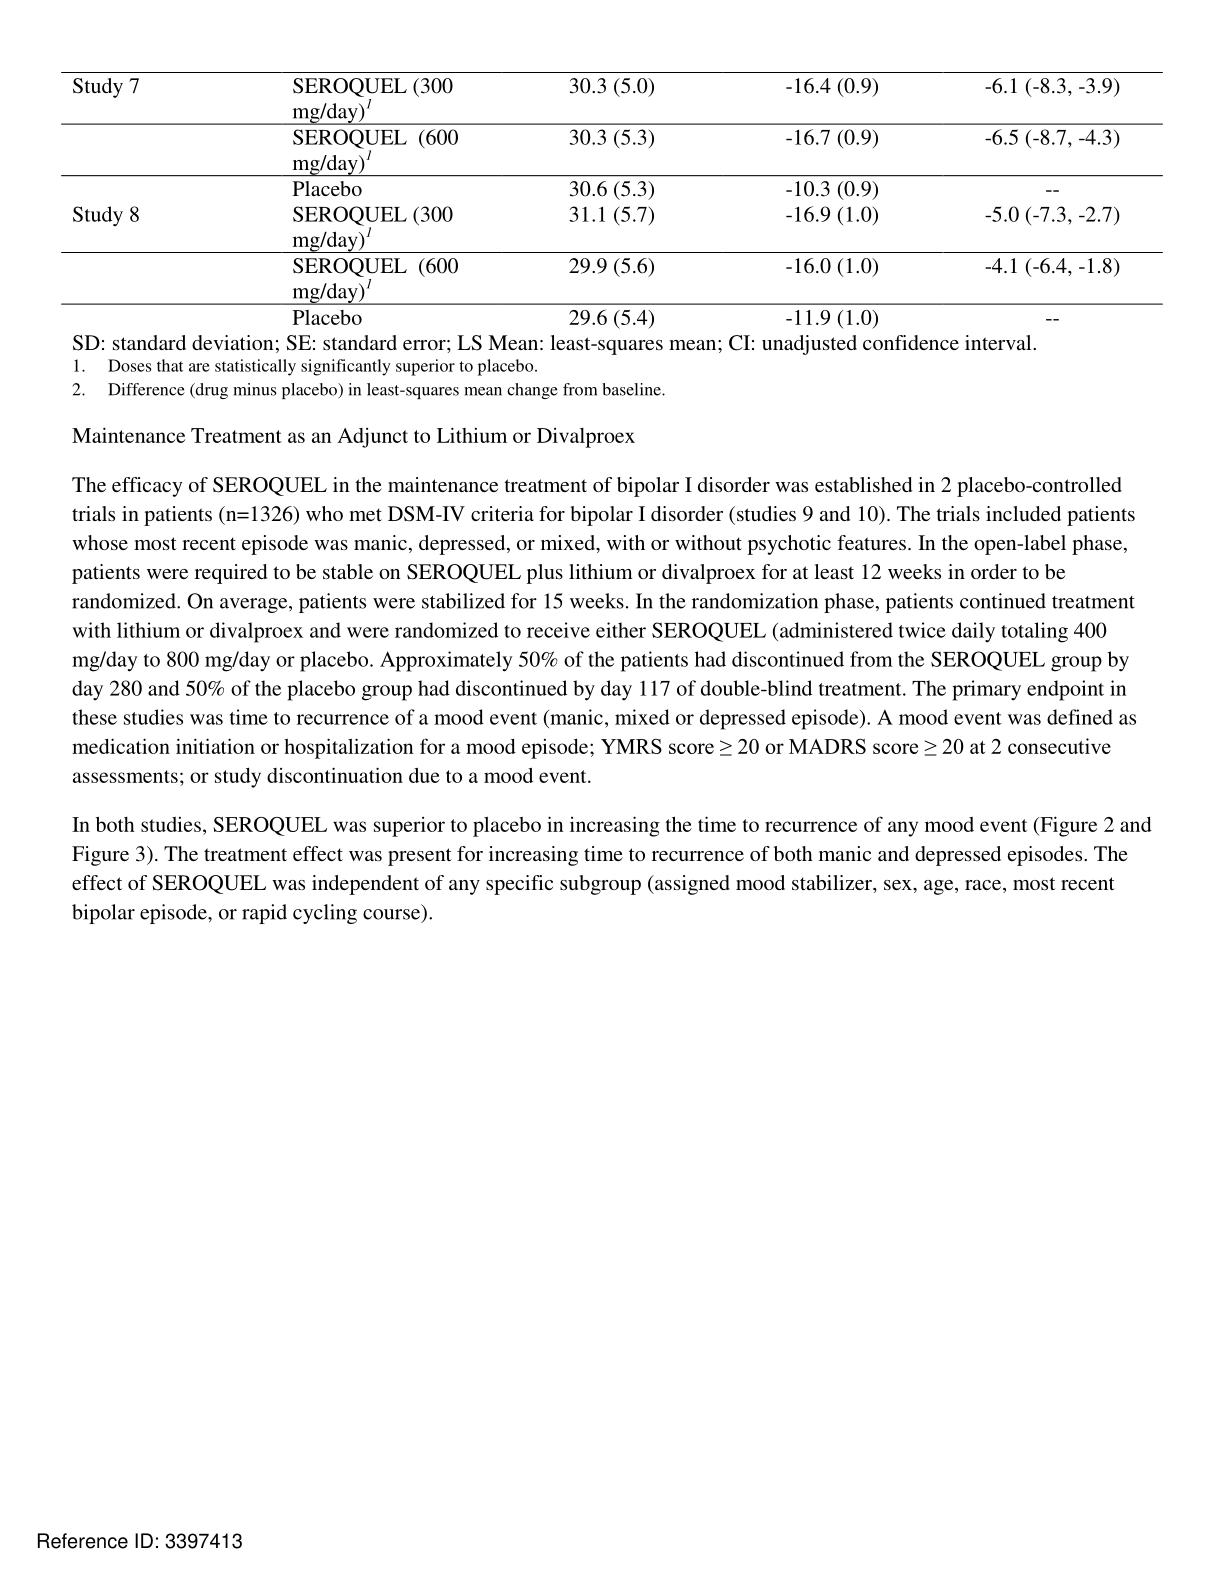partial_lined: (60, 69, 1164, 332)
